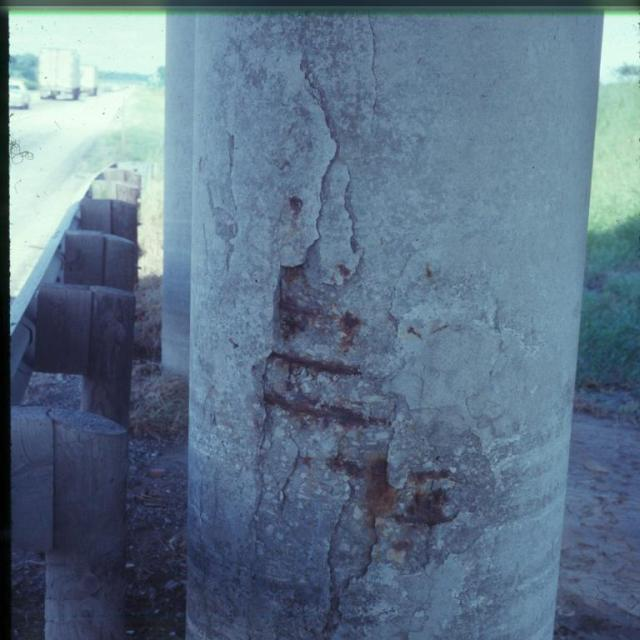spalling: (251, 351, 499, 639), (273, 149, 365, 341)
